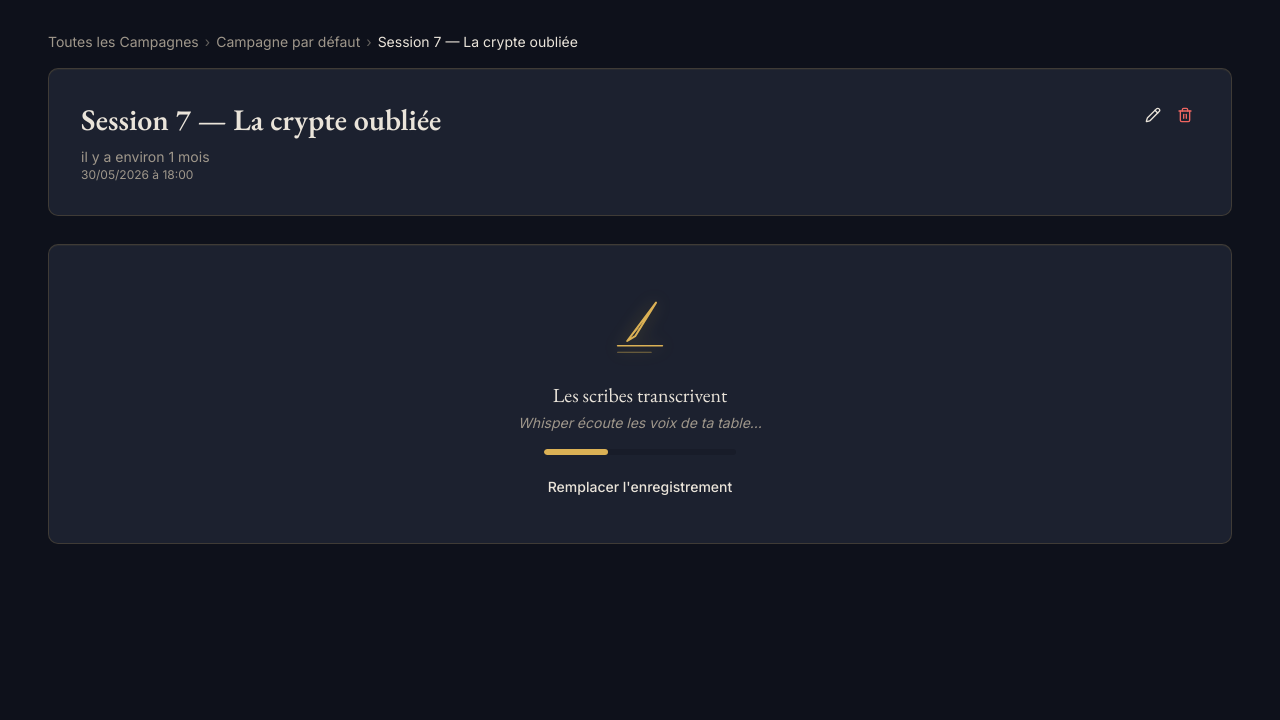
Test: /jdr/campaigns/[campId]/sessions/[sid] page › Story 4.15 — guard against concurrent transcriptions (T2) › re-enables replace when the cached current_job_id is not found
Expected: the heading "Les scribes transcrivent" is shown, 553,380 -> 727,408
What coordinates should you click on to do the following:
click the button "Remplacer l'enregistrement"
I would click on:
 (640, 486)
Its box is 537,470 -> 743,502.
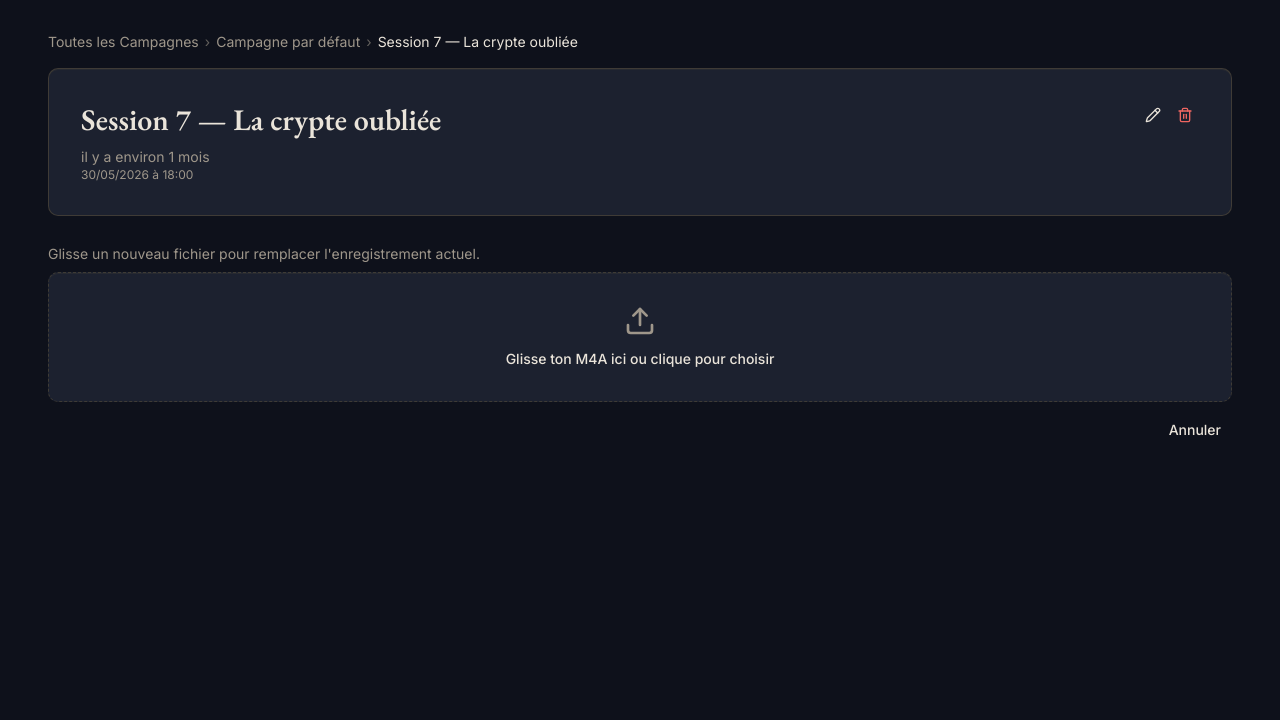
Now the button "Glisse ton M4A ici ou clique pour choisir" is shown, box 48,272 -> 1232,402
